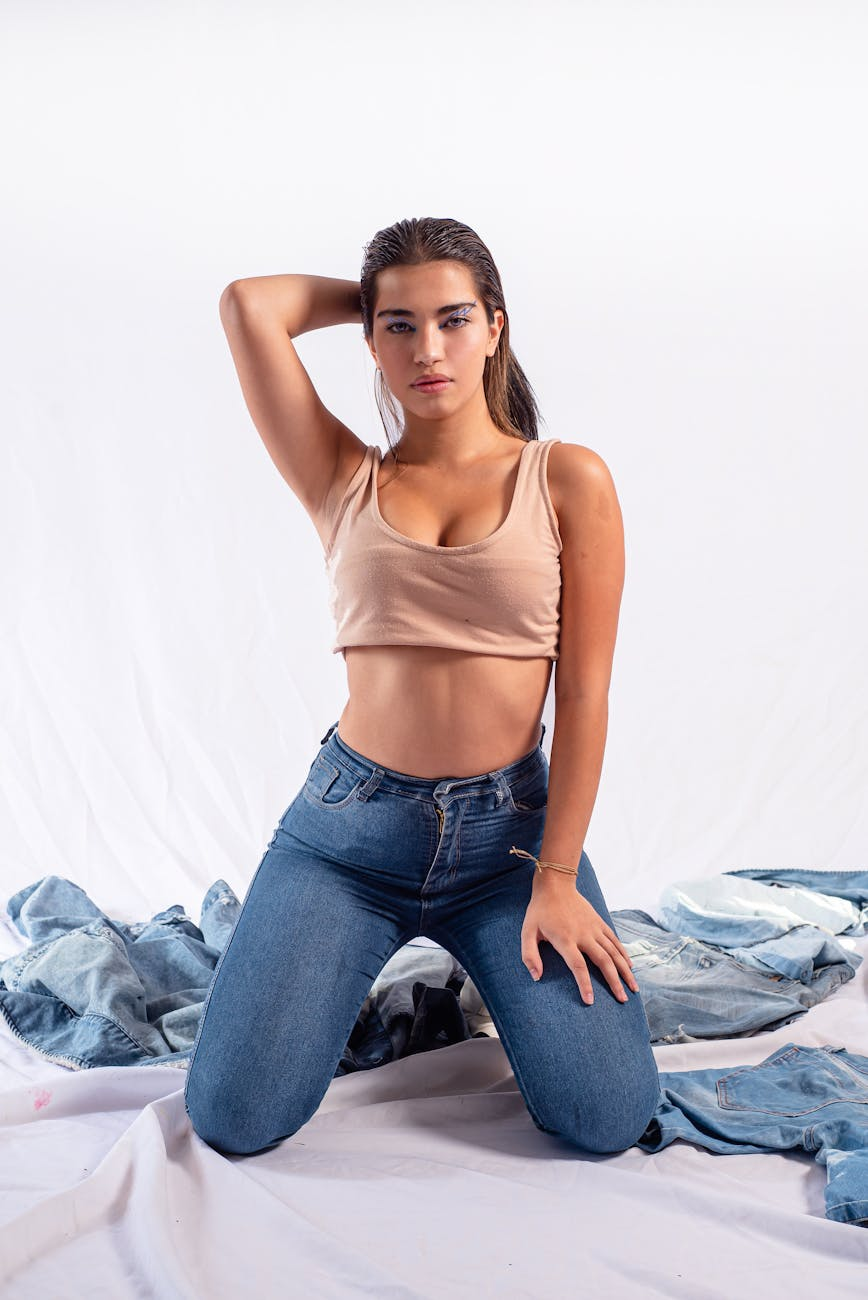crop_top: (310, 423, 584, 676)
